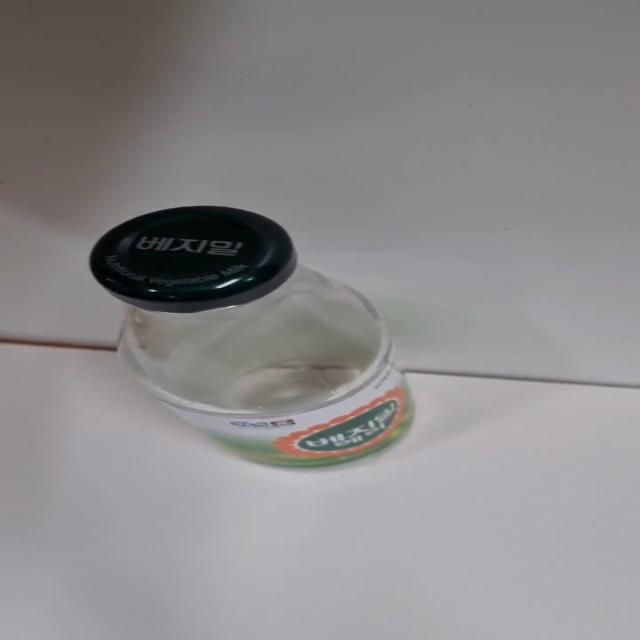Glass: (87, 206, 416, 472)
